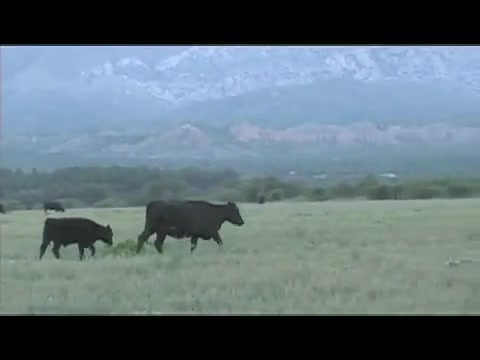cow: (138, 199, 247, 255), (39, 217, 117, 262), (43, 200, 66, 213)
